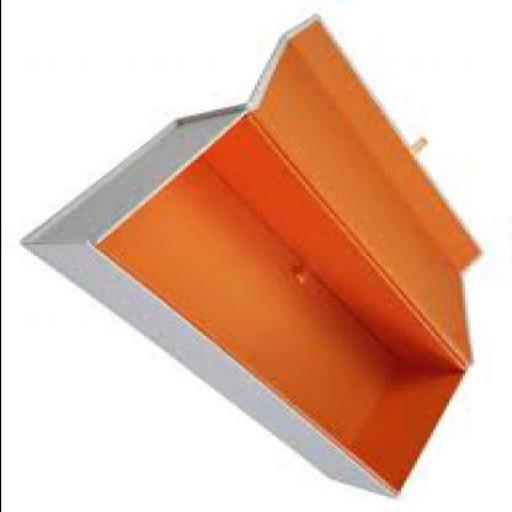cardboard: (24, 12, 482, 496)
